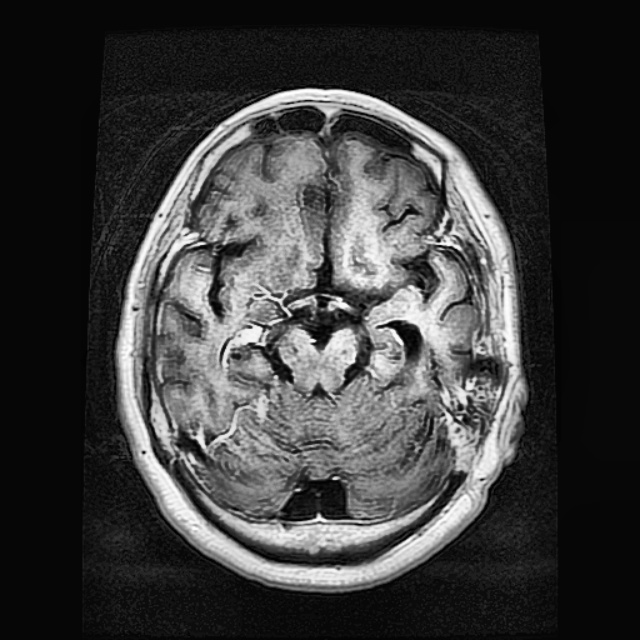Glioma: (437, 355, 499, 469)
